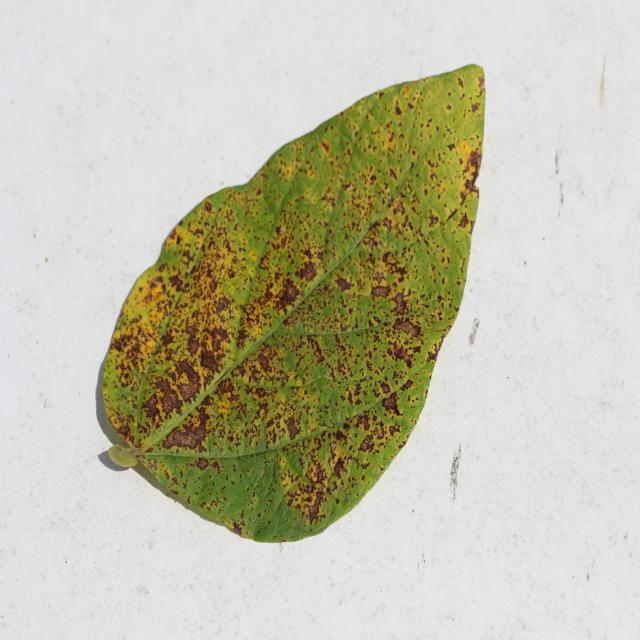Bacterial_Blight: (375, 144, 466, 307), (141, 348, 218, 452), (351, 94, 419, 195), (214, 369, 290, 443), (189, 231, 246, 313), (338, 158, 395, 240), (233, 332, 294, 394), (288, 449, 336, 524), (347, 400, 398, 462), (320, 339, 371, 395), (385, 286, 421, 359), (117, 317, 160, 370), (375, 249, 415, 298), (270, 144, 310, 193), (458, 154, 483, 206), (173, 359, 201, 399), (275, 279, 305, 314), (155, 377, 182, 415), (199, 339, 226, 375), (140, 274, 167, 306), (358, 165, 383, 196), (142, 395, 163, 422), (464, 148, 482, 177), (380, 391, 400, 416), (307, 338, 326, 364), (298, 258, 318, 282), (185, 332, 203, 358), (370, 284, 391, 301), (168, 272, 185, 292), (335, 275, 353, 293), (354, 411, 370, 431), (333, 456, 348, 477), (110, 336, 125, 353), (185, 324, 199, 342), (313, 464, 326, 483), (360, 436, 374, 453), (373, 271, 388, 285)
Soybean: (103, 65, 485, 542)
